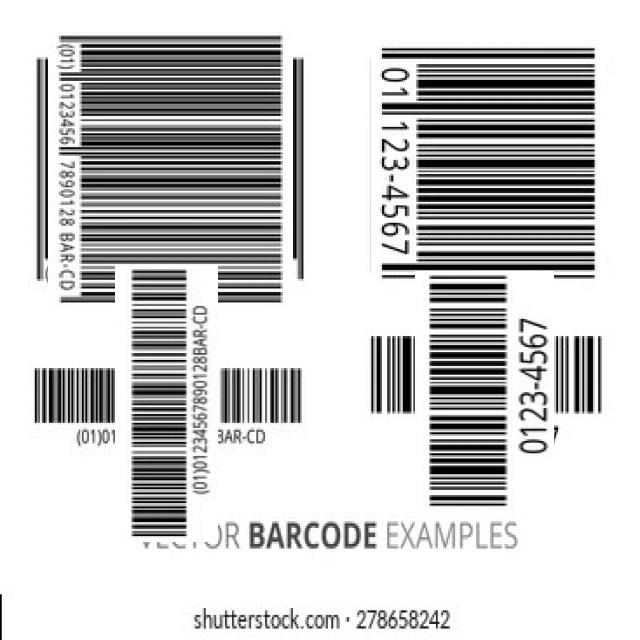Barkod: (38, 37, 302, 300), (366, 44, 610, 286), (71, 308, 262, 498), (390, 296, 580, 486)
